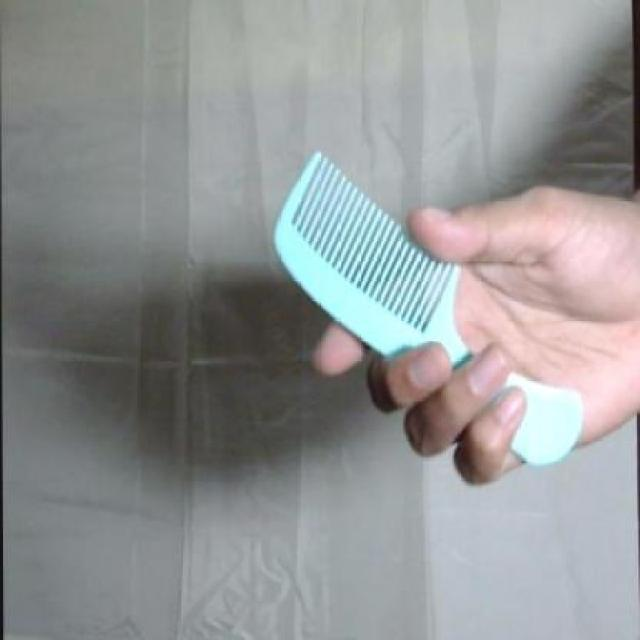Plastic: (270, 146, 590, 468)
